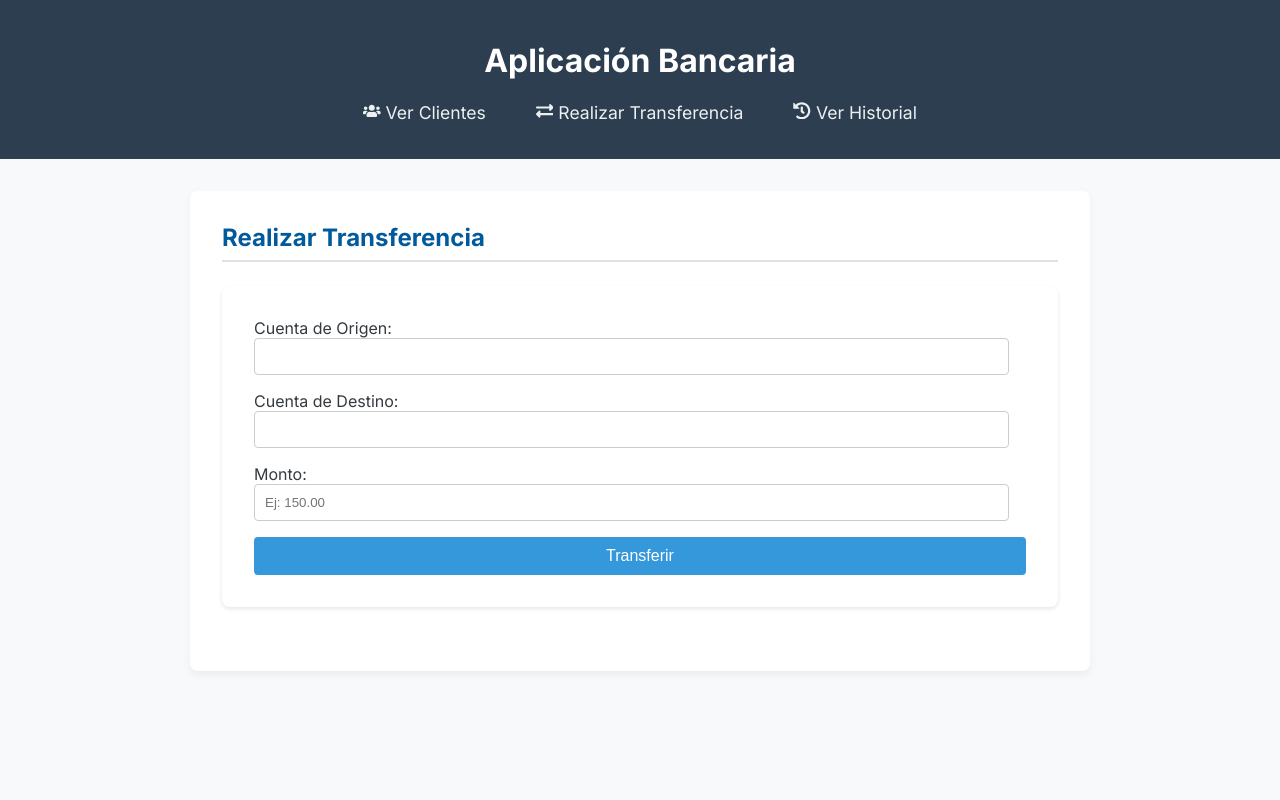
Test: Pruebas E2E del Banco - Robot de Interfaz › Caso E2E 3: Manejo de errores visuales (Validación Backend)
The image size is (1280, 800).
Type "1111" into the field below "Cuenta de Origen:" at (632, 358), box [254,339,1009,376]
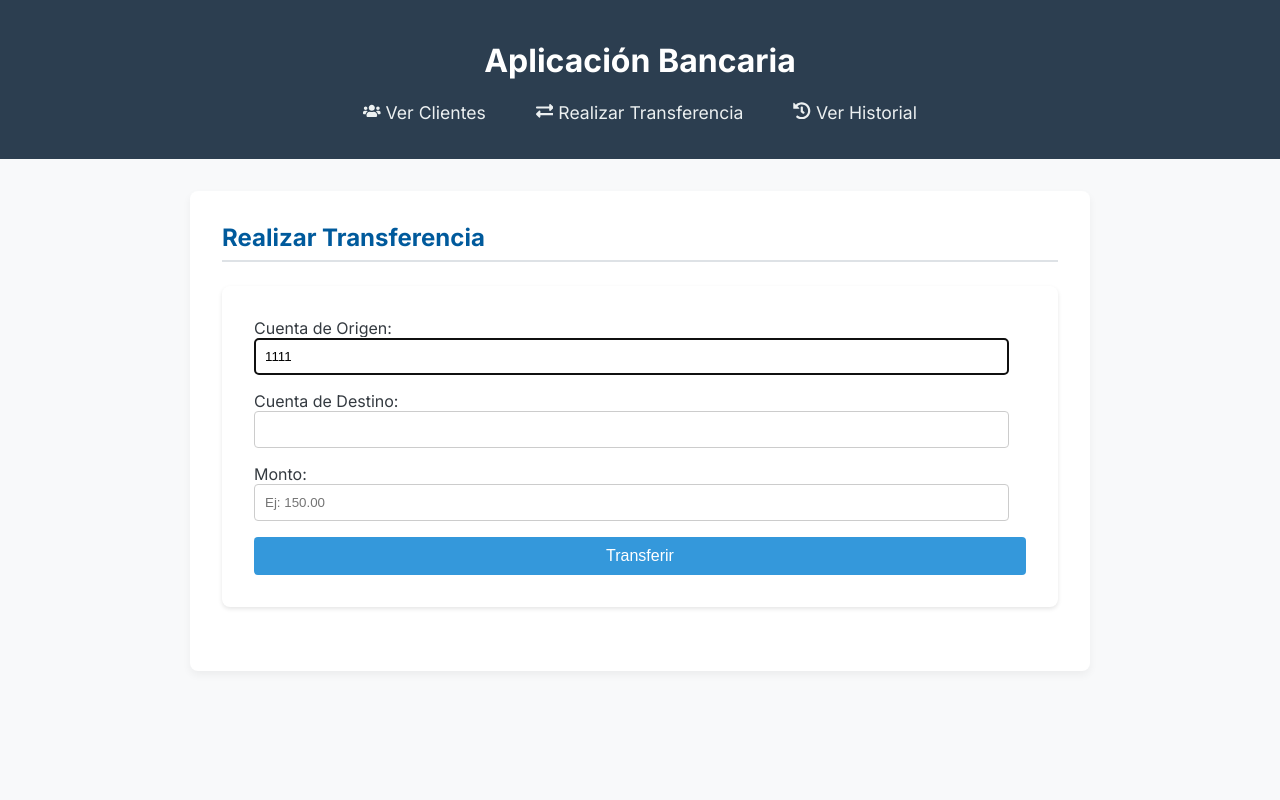
Type "2222" into the field below "Cuenta de Destino:" at (632, 431), box [254,412,1009,449]
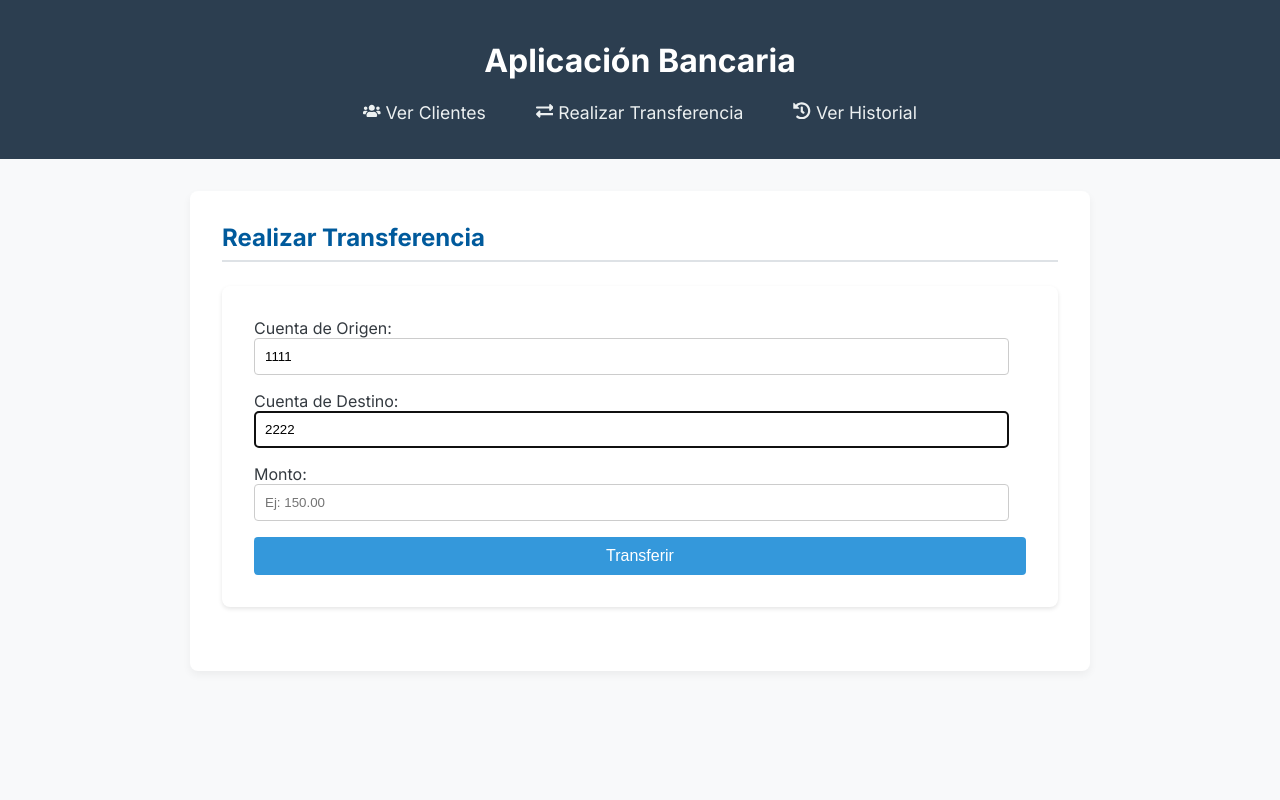
Type "10.00" into the number field with placeholder "Ej: 150.00" at (632, 504), box [254,485,1009,522]
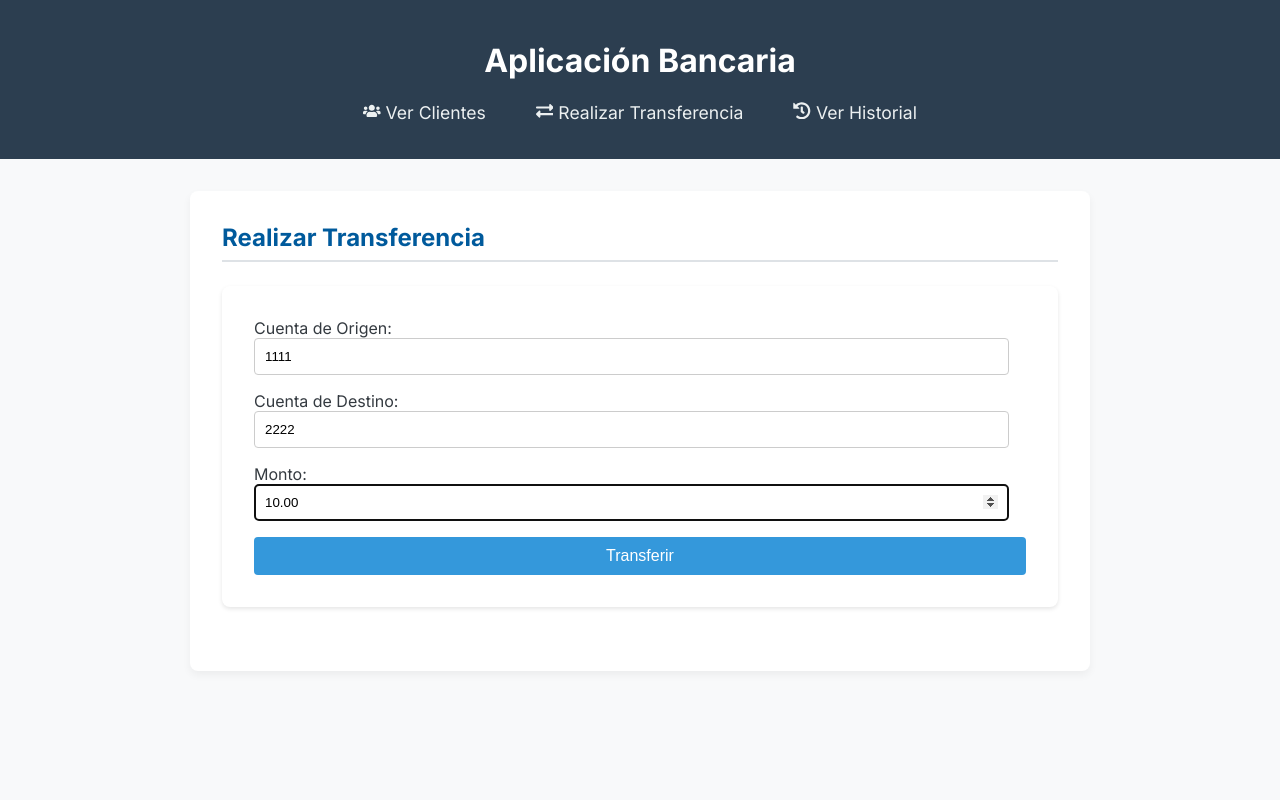
Click the button "Transferir" at (640, 557), box [254,538,1026,576]
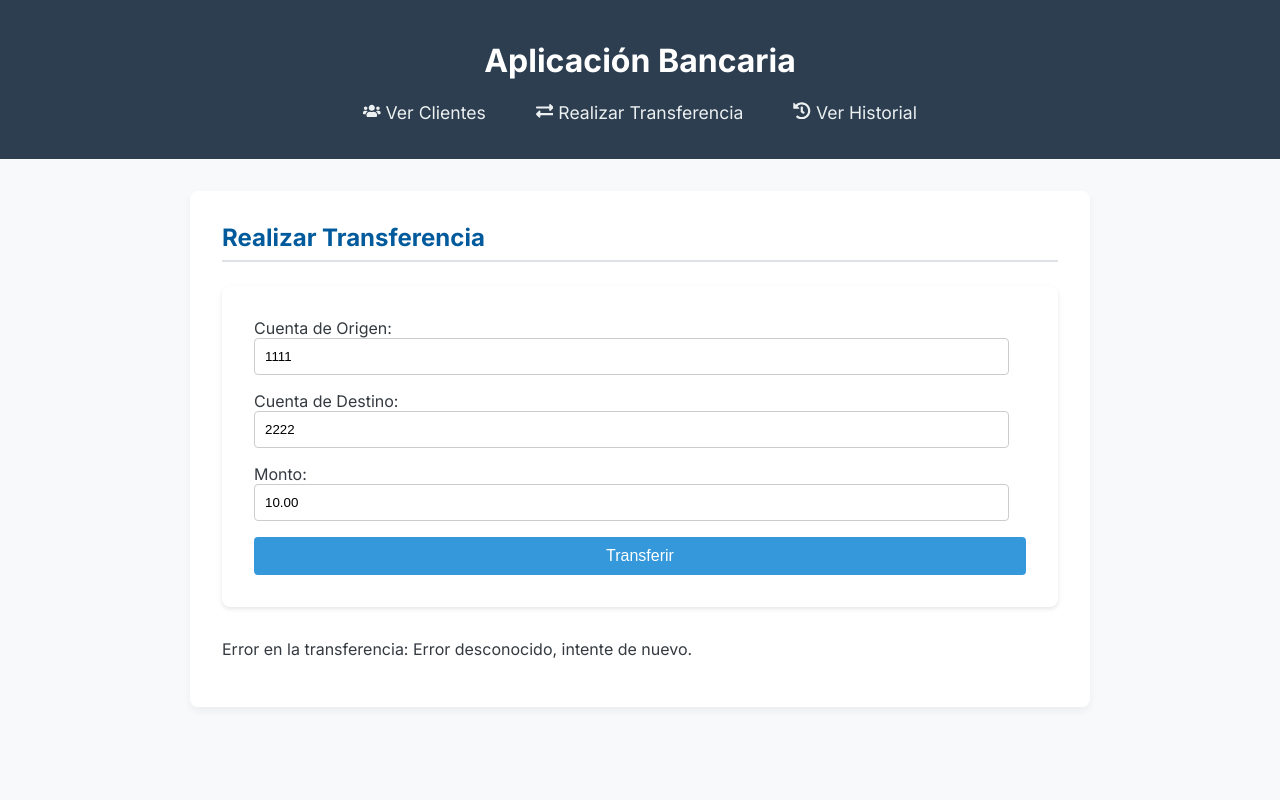
Expected: the text "Error en la transferencia" is shown, [222,639,692,659]
